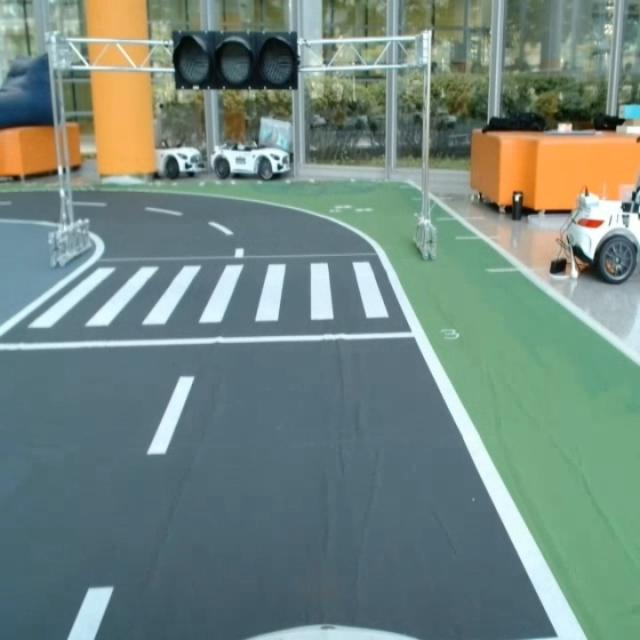traffic-light: (170, 31, 304, 90)
